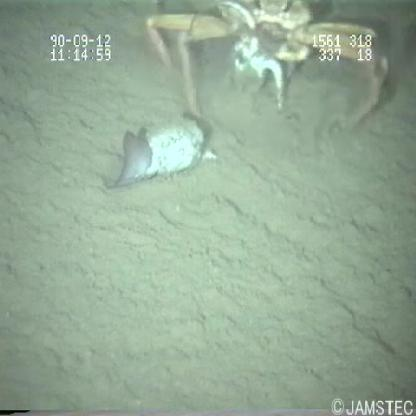Bio: (94, 113, 216, 192)
